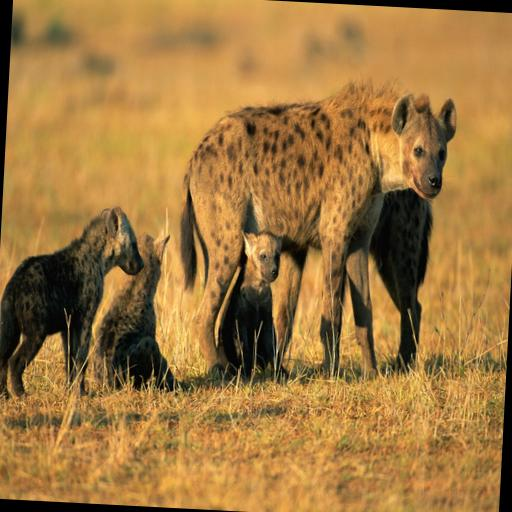hyenas: (16, 71, 470, 418)
